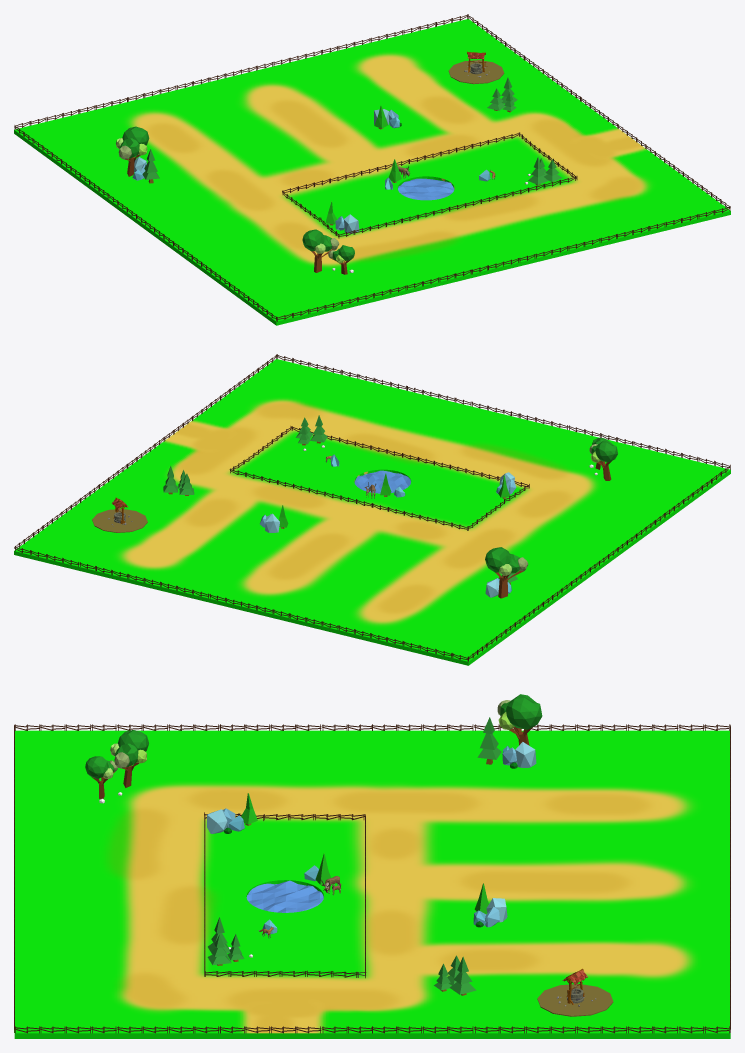
File: grndFin3.glb
3 views of the same model, one above another, from view 1: azimuth 30°, elevation 25°; view 2: azimuth 150°, elevation 25°; view 3: azimuth 270°, elevation 25° (orthographic). The views are drawn at different scales.
Parts seen in each view (by area): view 1: Cube, fence1.003, fence1.002, Cylinder.003, fence1.001, fence1, Plane, Icosphere.030, fence1.005, Icosphere.020, fence1.004; view 2: Cube, fence1.003, fence1.002, Cylinder.003, Icosphere.030, fence1.001, fence1, Plane, fence1.004, fence1.005, Icosphere.020; view 3: Cube, fence1, fence1.001, Cylinder.003, Plane, Icosphere.030, Icosphere.020, Icosphere.018, Cube.020, Cube.022.
Boxes of the visible parts, x1=… form: Cube: x1=14, y1=19, x2=730, y2=325; fence1.003: x1=276, y1=206, x2=730, y2=321; fence1.002: x1=14, y1=14, x2=468, y2=127; Cylinder.003: x1=448, y1=51, x2=504, y2=84; fence1.001: x1=14, y1=125, x2=276, y2=321; fence1: x1=468, y1=14, x2=730, y2=207; Plane: x1=398, y1=178, x2=454, y2=200; Icosphere.030: x1=116, y1=126, x2=149, y2=176; fence1.005: x1=338, y1=176, x2=576, y2=238; Icosphere.020: x1=302, y1=229, x2=339, y2=272; fence1.004: x1=282, y1=132, x2=519, y2=192; Cube: x1=14, y1=359, x2=730, y2=665; fence1.003: x1=277, y1=354, x2=730, y2=467; fence1.002: x1=14, y1=546, x2=468, y2=661; Cylinder.003: x1=92, y1=497, x2=147, y2=532; Icosphere.030: x1=485, y1=547, x2=528, y2=598; fence1.001: x1=468, y1=465, x2=730, y2=661; fence1: x1=15, y1=354, x2=276, y2=547; Plane: x1=354, y1=470, x2=410, y2=493; fence1.004: x1=229, y1=468, x2=467, y2=530; fence1.005: x1=291, y1=426, x2=529, y2=488; Icosphere.020: x1=589, y1=440, x2=617, y2=480; Cube: x1=14, y1=730, x2=730, y2=1038; fence1: x1=14, y1=1026, x2=729, y2=1033; fence1.001: x1=14, y1=724, x2=729, y2=730; Cylinder.003: x1=537, y1=968, x2=613, y2=1016; Plane: x1=246, y1=880, x2=323, y2=912; Icosphere.030: x1=497, y1=694, x2=542, y2=745; Icosphere.020: x1=110, y1=730, x2=148, y2=787; Icosphere.018: x1=85, y1=756, x2=117, y2=798; Cube.020: x1=204, y1=970, x2=366, y2=977; Cube.022: x1=477, y1=717, x2=501, y2=764.
Size of the model in its own units: 120 by 13.5 by 120.
Materials: 69 (1 with a texture image).
